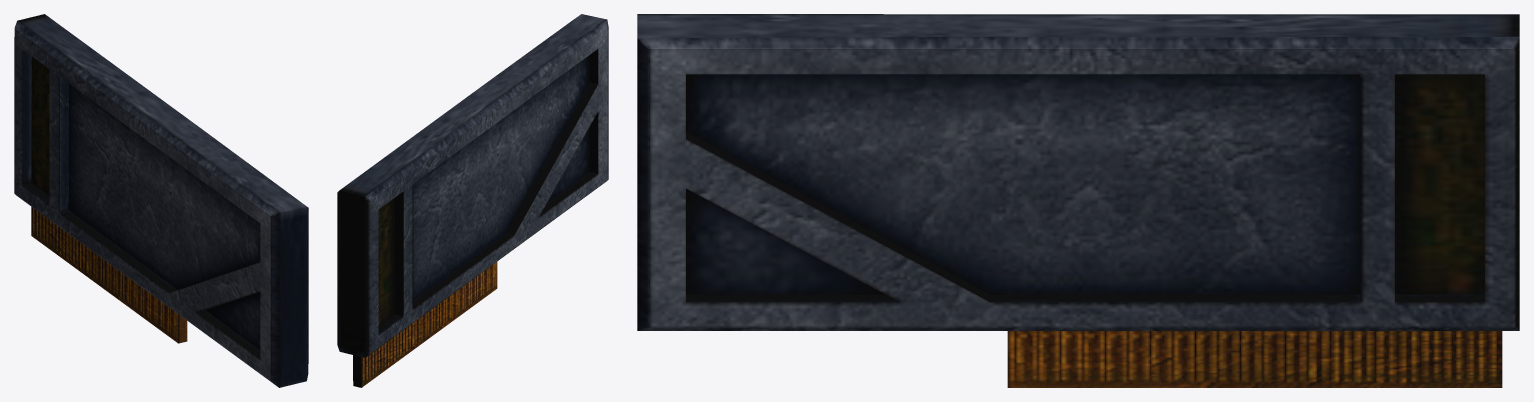
The model's file is b_s_key.obj.
The picture shows the model from 3 angles, left to right: view 1: azimuth 30°, elevation 25°; view 2: azimuth 150°, elevation 25°; view 3: azimuth 270°, elevation 25°; orthographic projection. The views are drawn at different scales.
Bounding box in the file's own units: 1.99 × 11 × 24.5.
Materials: 1 (1 with a texture image).
